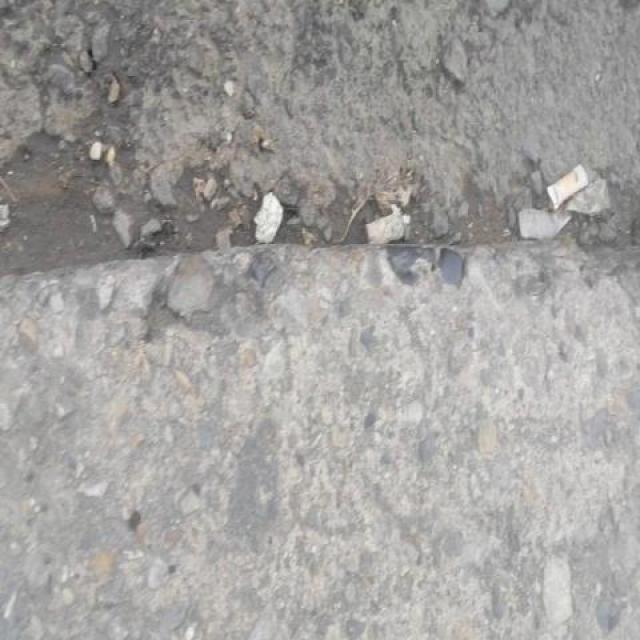non-organic waste: (540, 158, 592, 215)
